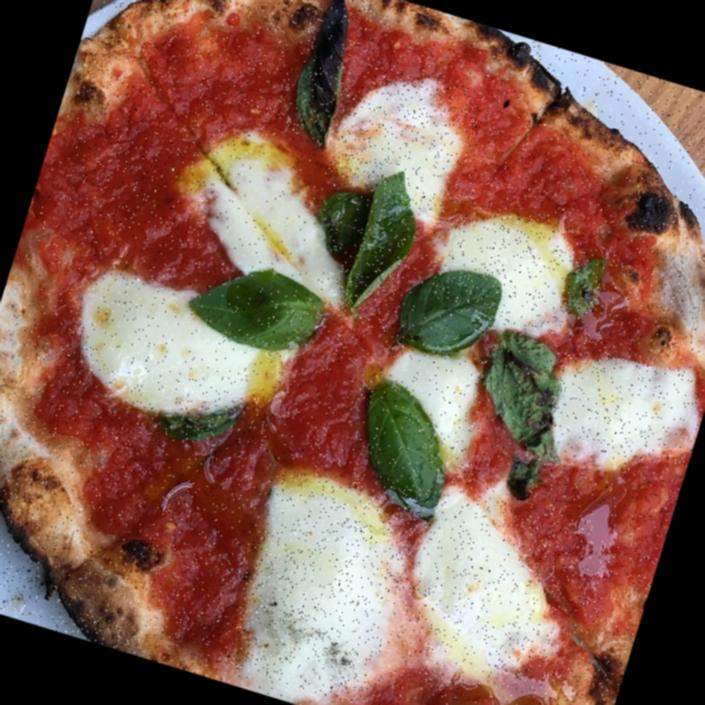Basil: (301, 155, 430, 332), (333, 368, 470, 518), (186, 247, 327, 363), (279, 0, 375, 149), (472, 326, 572, 454), (389, 248, 502, 358), (151, 389, 240, 458), (502, 417, 562, 504), (560, 250, 618, 326)
Cheese: (222, 467, 418, 705), (62, 260, 298, 436), (396, 482, 574, 678), (194, 123, 370, 298), (325, 56, 486, 216), (536, 342, 691, 482), (431, 201, 585, 336), (367, 342, 492, 464)
Pizza: (0, 0, 705, 705)
